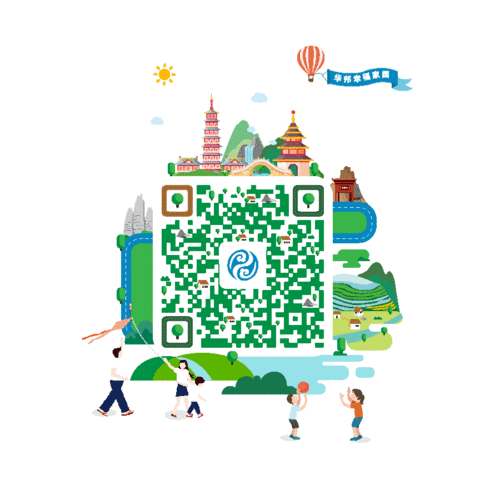QRCode: (155, 181, 327, 354)
